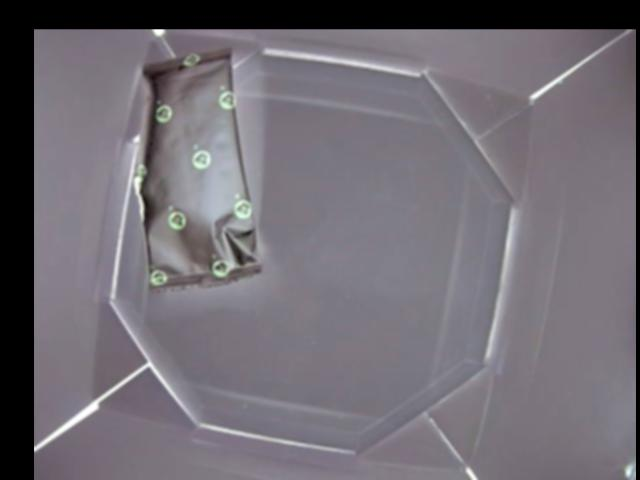Medicine: (129, 49, 264, 295)
